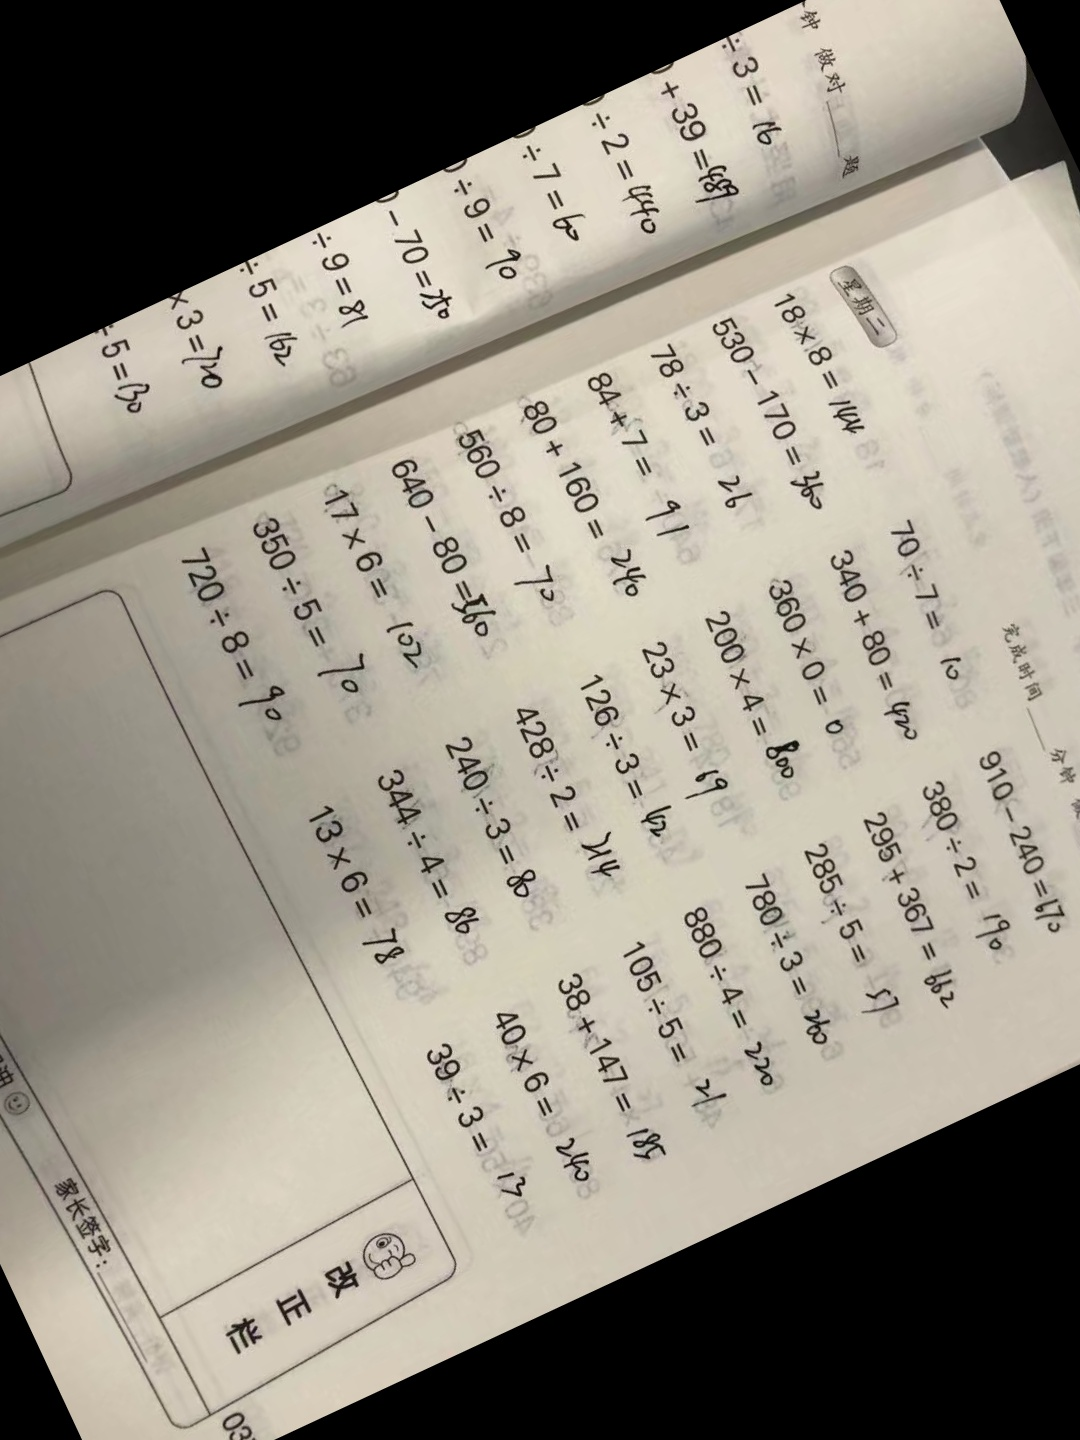equation: (522, 374, 642, 615), (177, 537, 301, 771), (253, 505, 373, 732), (614, 926, 728, 1153), (458, 420, 572, 643), (555, 965, 666, 1187), (322, 477, 432, 693), (741, 867, 850, 1079), (520, 700, 630, 908), (715, 310, 822, 518), (497, 999, 602, 1210), (861, 808, 969, 1014), (680, 895, 784, 1106), (826, 540, 933, 744), (972, 749, 1080, 951), (801, 835, 905, 1037), (706, 605, 808, 807), (395, 455, 499, 651), (917, 768, 1016, 967), (575, 659, 674, 859), (381, 760, 484, 951), (450, 731, 551, 925), (590, 353, 691, 545), (309, 795, 411, 982), (886, 517, 986, 708), (425, 1031, 525, 1221), (638, 638, 735, 824), (657, 331, 753, 518), (768, 577, 862, 757), (777, 282, 872, 458)
